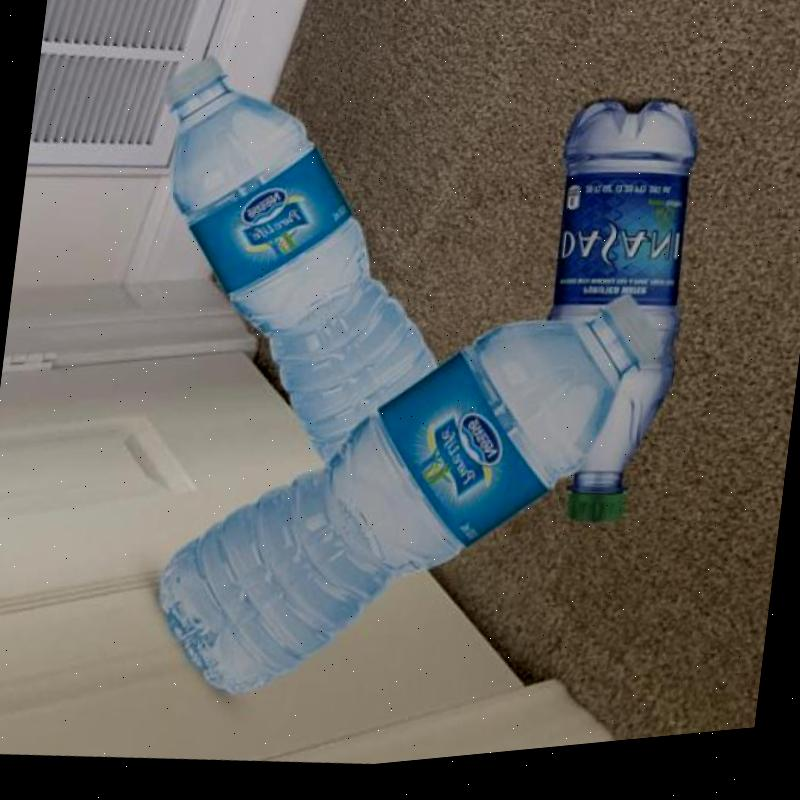botella: (144, 247, 672, 757), (117, 38, 480, 501), (519, 98, 702, 549)
